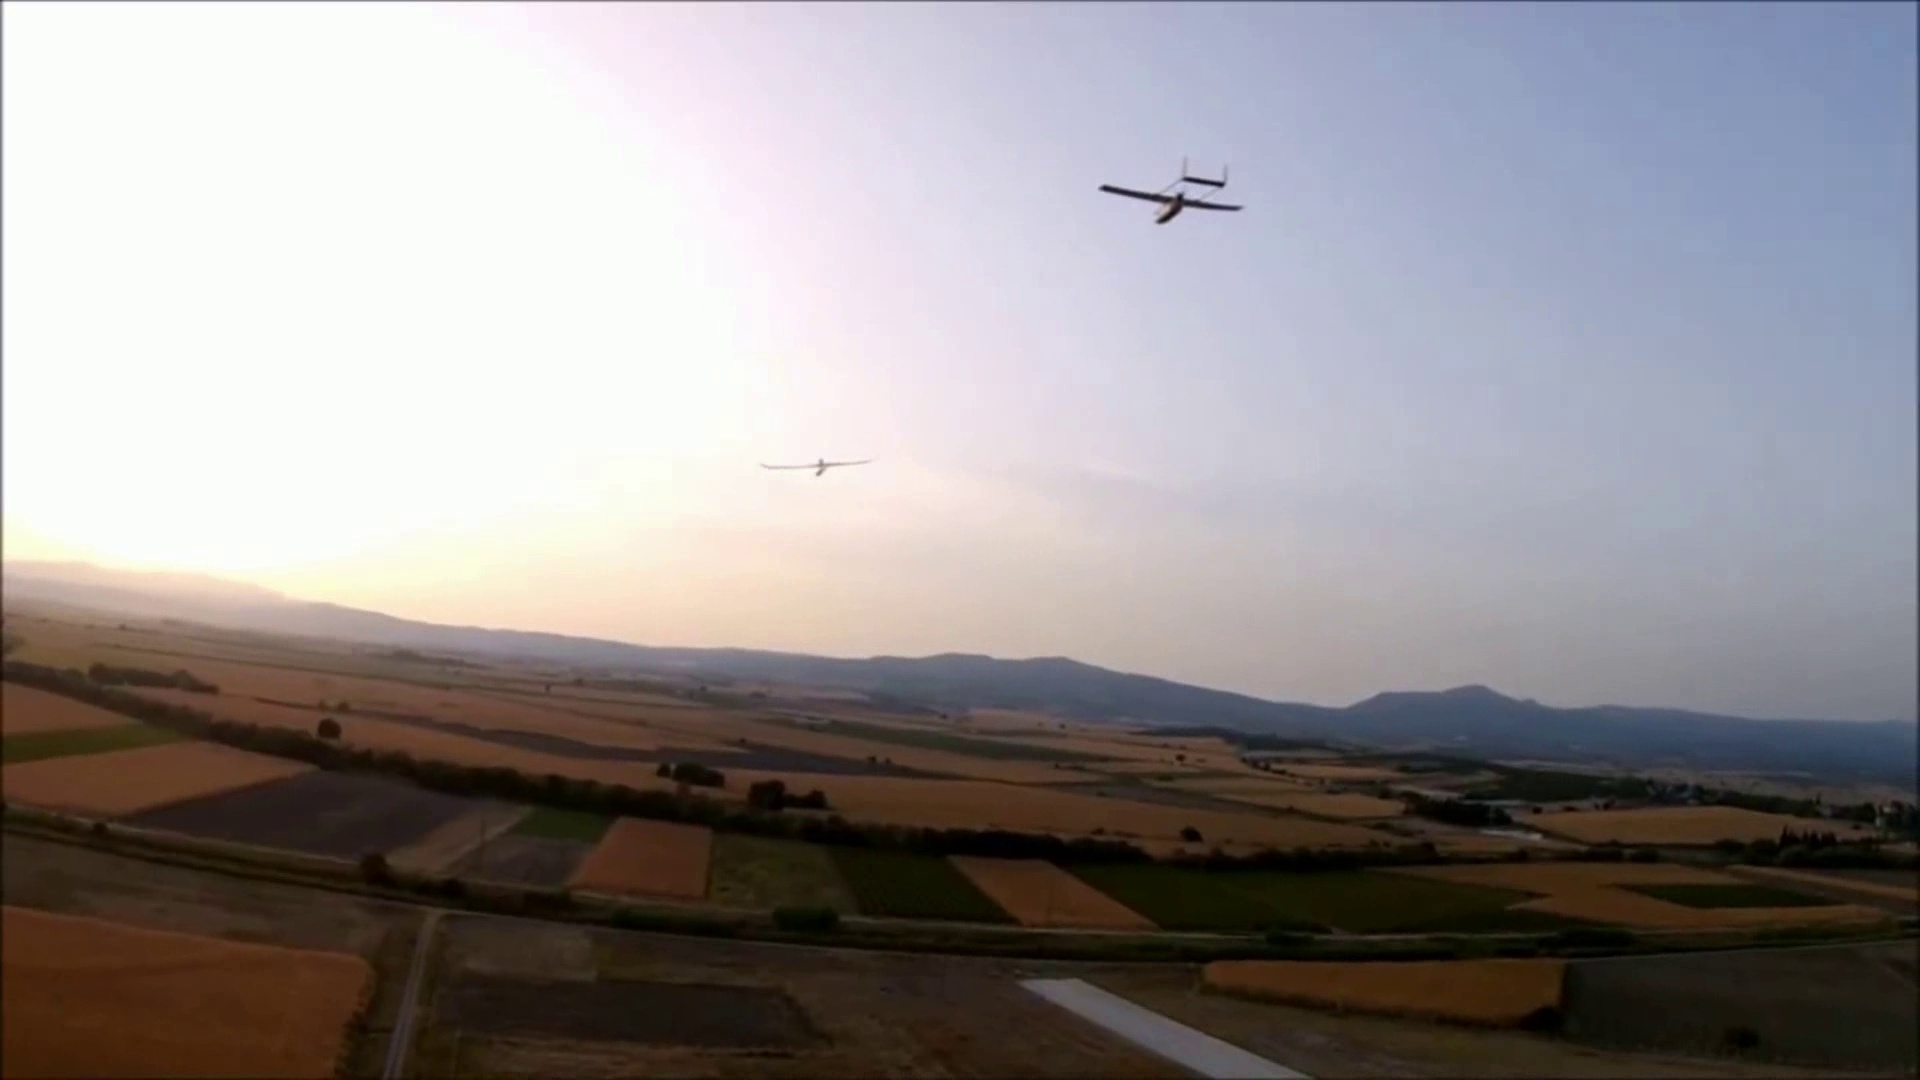airplane: (1096, 156, 1245, 222)
